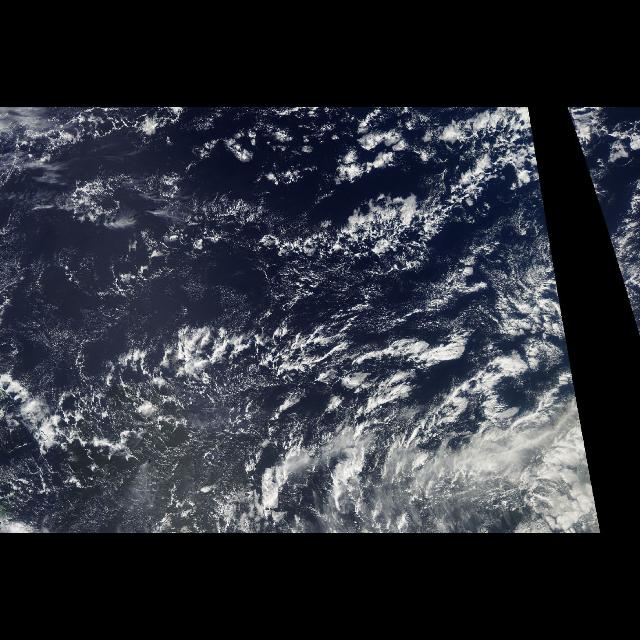Fish: (162, 292, 456, 518)
Gravel: (2, 174, 548, 480), (6, 108, 194, 156)
Sugar: (5, 260, 284, 352)
